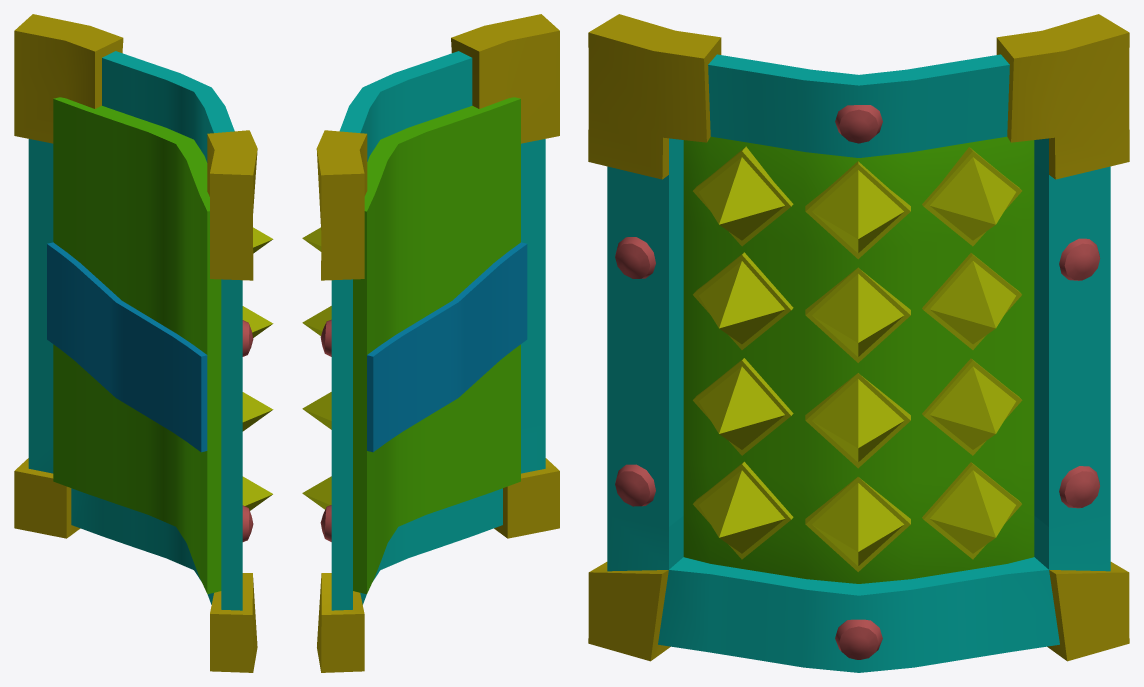
The model's file is Shield.fbx.
The picture shows the model from 3 angles, left to right: view 1: azimuth 30°, elevation 25°; view 2: azimuth 150°, elevation 25°; view 3: azimuth 270°, elevation 25°; orthographic projection. The views are drawn at different scales.
Visible parts, largest first — view 1: polySurface10; view 2: polySurface10; view 3: polySurface10.
Boxes of the visible parts, x1=… form: polySurface10: x1=14, y1=14, x2=273, y2=672; polySurface10: x1=302, y1=14, x2=559, y2=672; polySurface10: x1=588, y1=14, x2=1129, y2=672.
Size of the model in its own units: 2.79 by 10.31 by 8.28.
